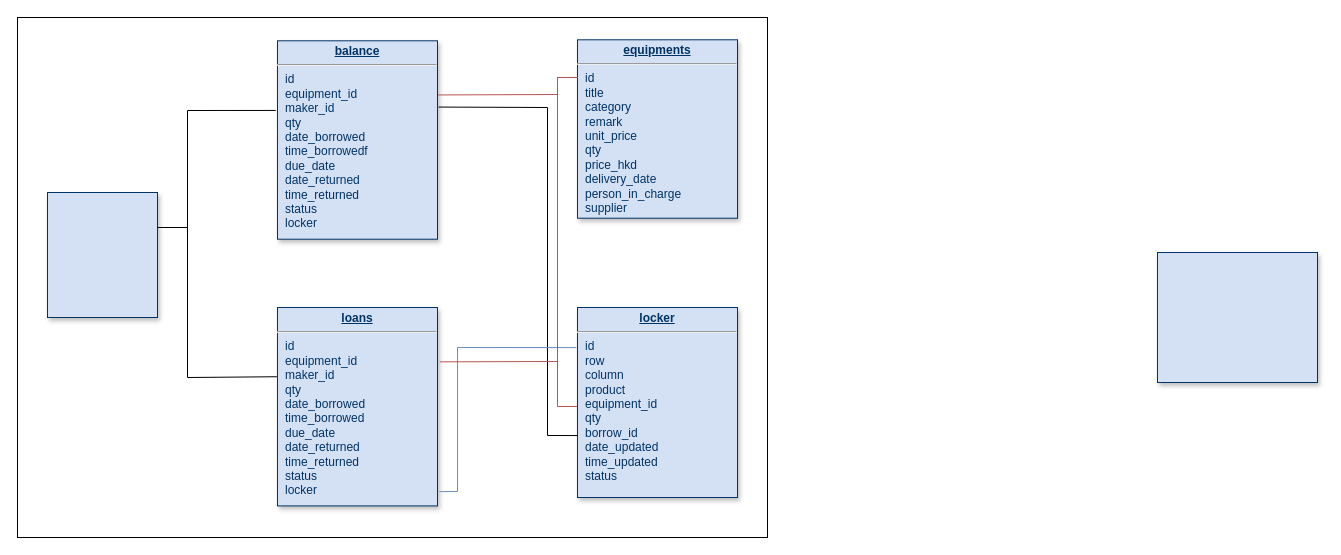
The diagram is 1341 pixels wide and 555 high, and some of its shapes have lost their labels. The centre of each missing label's shape, as x and y in pixels:
"makers id name department address phone_number email" belongs at (x=103, y=256).
"TimeCategory IdTimeCategory Name Description CreatedAt UpdatedAt Enabled" belongs at (x=1238, y=319).
